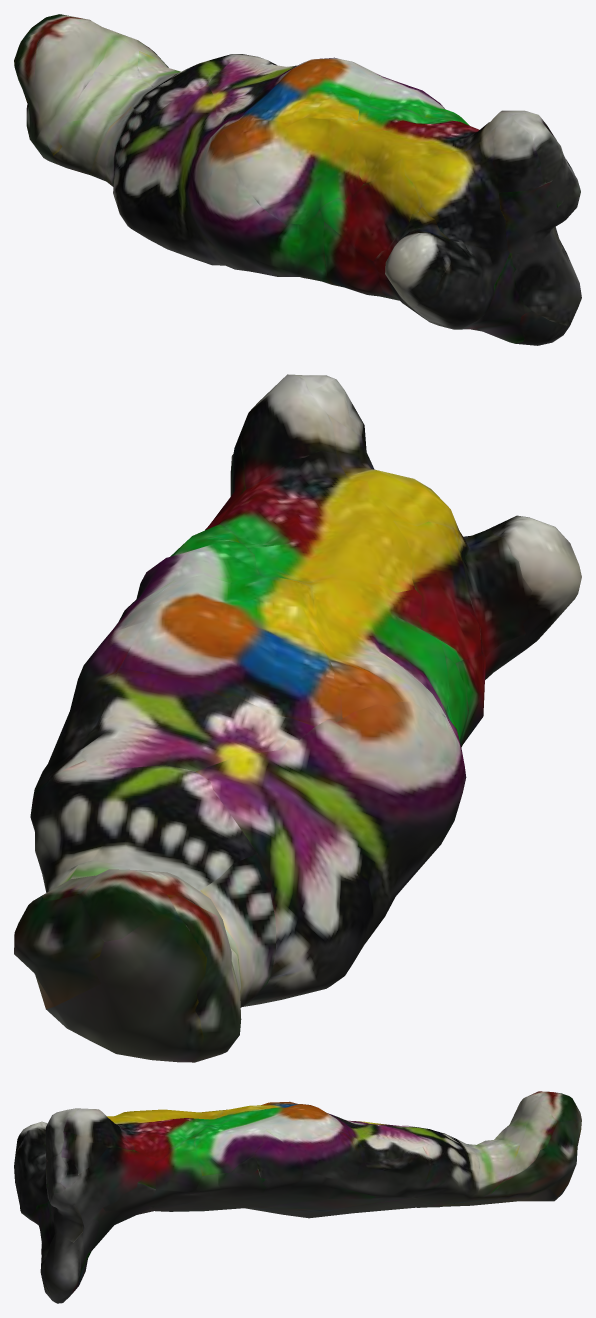
The model's file is hall.glb.
3 views of the same model, one above another, from view 1: azimuth 30°, elevation 25°; view 2: azimuth 150°, elevation 25°; view 3: azimuth 270°, elevation 25° (orthographic). The views are drawn at different scales.
Bounding box in the file's own units: 0.3927 × 0.3085 × 0.8384.
1 material, 1 textured.
